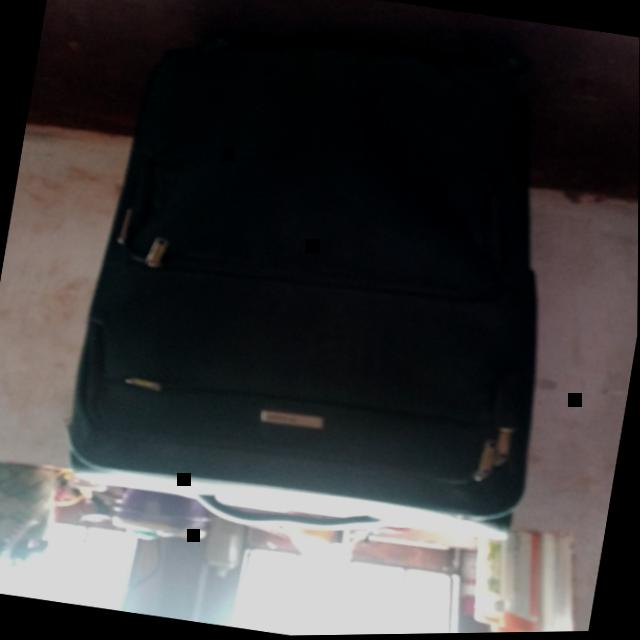luggage: (44, 0, 602, 564)
